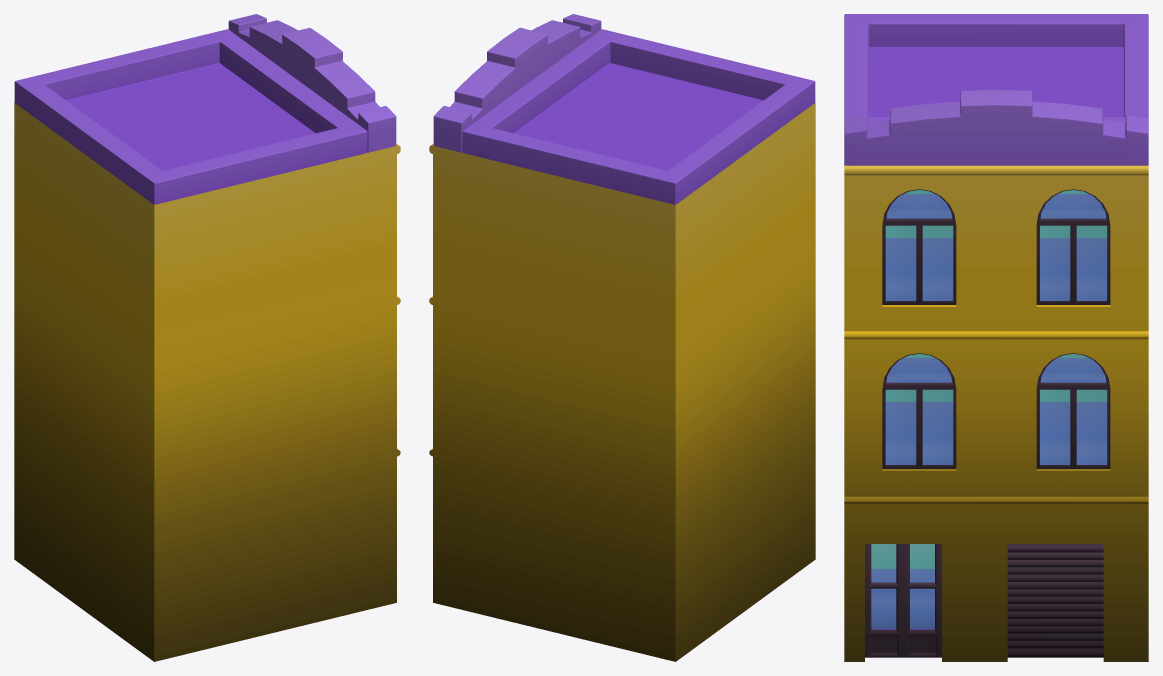
The model's file is SM_Building_Yellow.fbx.
3 views of the same model, side by side, from view 1: azimuth 30°, elevation 25°; view 2: azimuth 150°, elevation 25°; view 3: azimuth 270°, elevation 25° (orthographic). The views are drawn at different scales.
Parts seen in each view (by area): view 1: SM_building_Yellow; view 2: SM_building_Yellow; view 3: SM_building_Yellow.
Boxes of the visible parts, x1,y1,x2,y2 form: SM_building_Yellow: (14, 14, 400, 661); SM_building_Yellow: (429, 14, 815, 661); SM_building_Yellow: (844, 14, 1148, 661).
Size of the model in its own units: 508 by 1011 by 500.
1 material, 1 textured.
